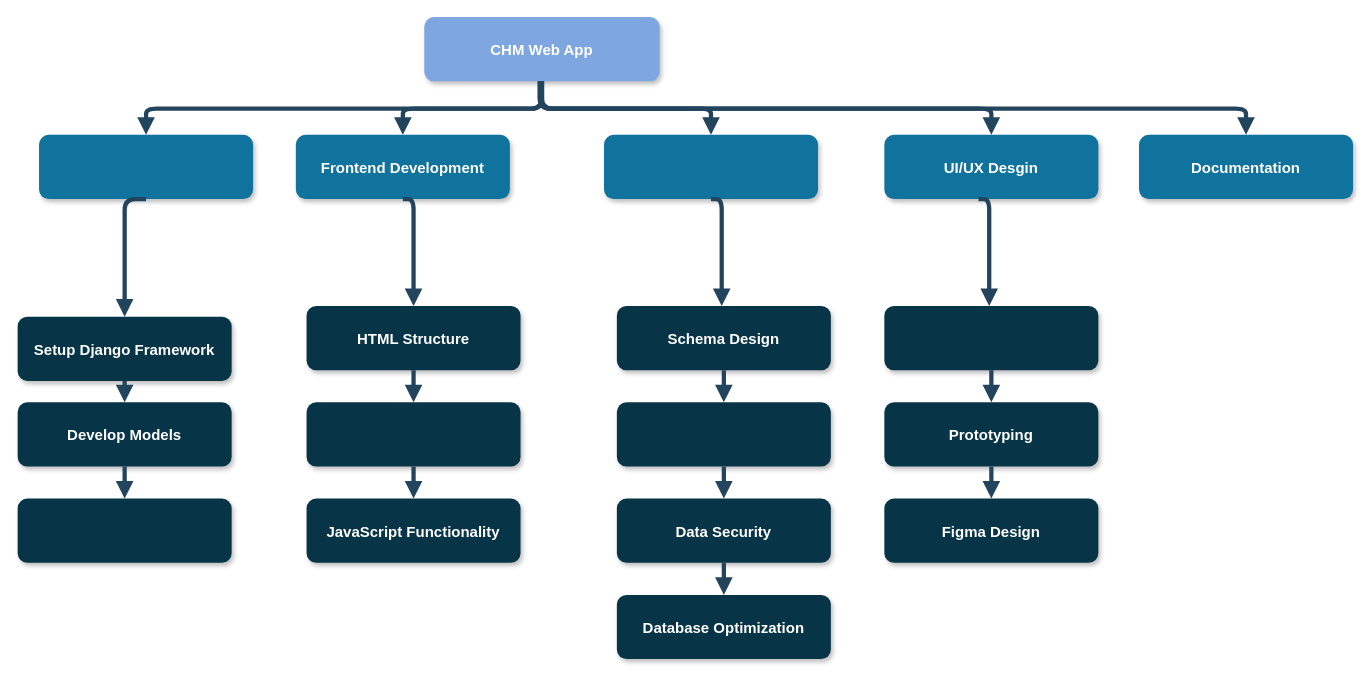
Image size: 1371x676. Some labels were removed from this diagram. The shapes that lost their labels are listed below. From the top down, each one's centre as x and y in pixels, then its label:
At point (146, 168): "Backend Development".
At point (711, 168): "Database Desgin".
At point (992, 339): "Wireframing".
At point (414, 435): "CSS styling".
At point (724, 435): "MySQL Integration".
At point (125, 532): "Authentication System".
